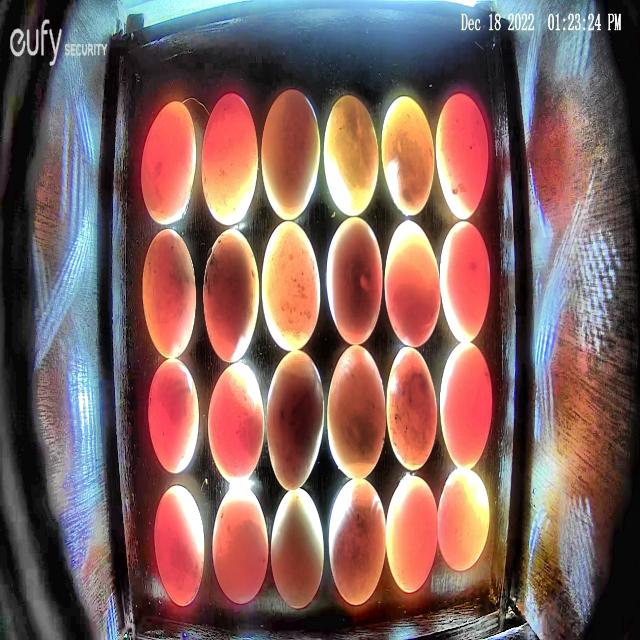DE: (265, 350, 325, 492), (262, 87, 321, 221), (327, 344, 386, 478), (260, 220, 320, 351), (202, 229, 260, 362), (202, 91, 258, 226), (383, 218, 441, 347), (329, 477, 386, 604), (327, 216, 382, 346), (142, 228, 197, 357), (435, 92, 490, 220), (207, 362, 265, 482), (439, 341, 492, 470), (323, 94, 379, 216), (212, 486, 269, 604), (141, 102, 196, 224), (381, 95, 436, 216), (386, 346, 437, 469), (154, 486, 206, 606), (272, 489, 324, 609), (385, 475, 438, 592), (440, 222, 491, 341), (147, 358, 199, 473), (437, 466, 490, 572)
